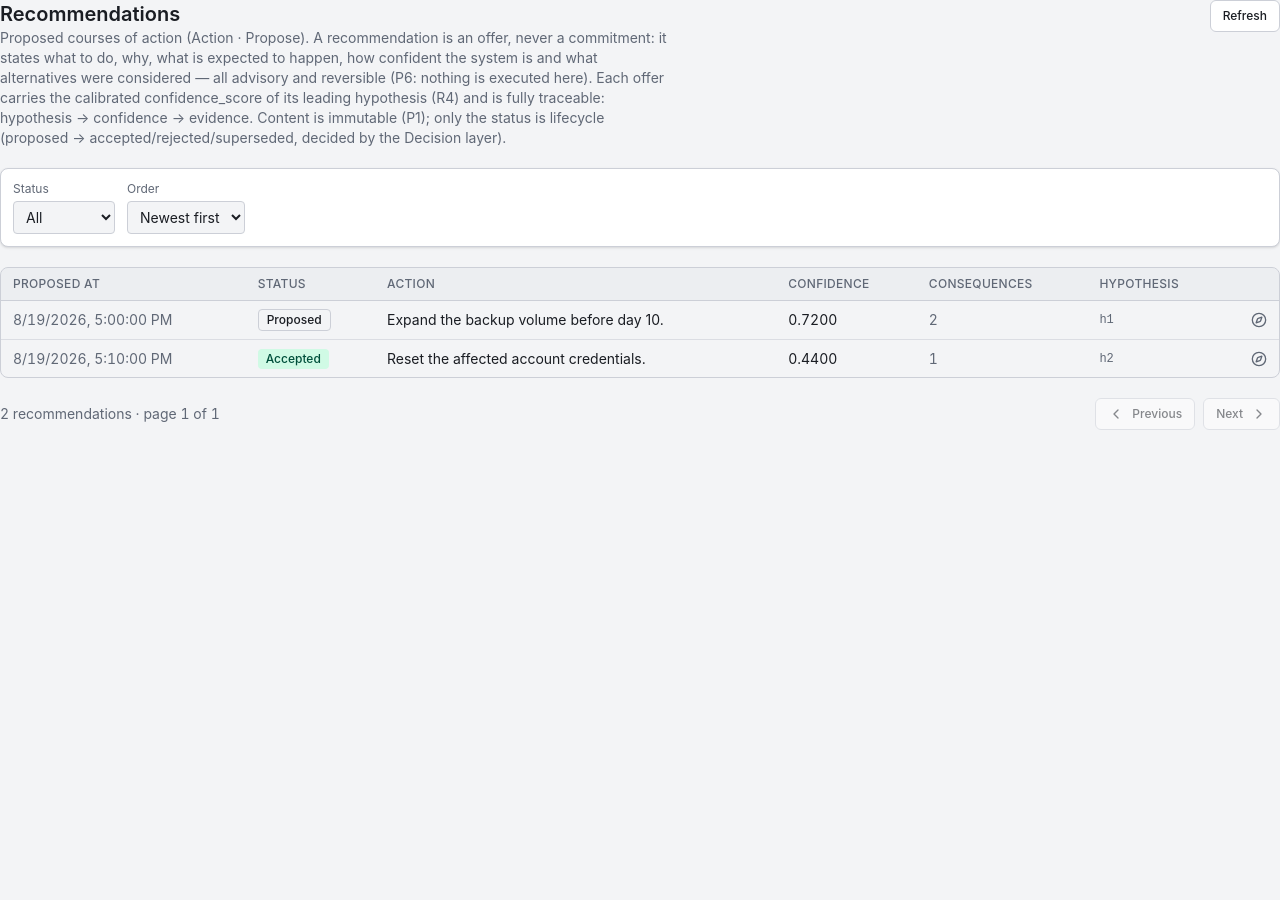
Scenario: RecommendationsPage › opens the detail drawer with consequences, alternatives, confidence and hypothesis
Click the text "Expand the backup volume before day 10.": (576, 320) x1=375 y1=300 x2=776 y2=340
(page scrolled)
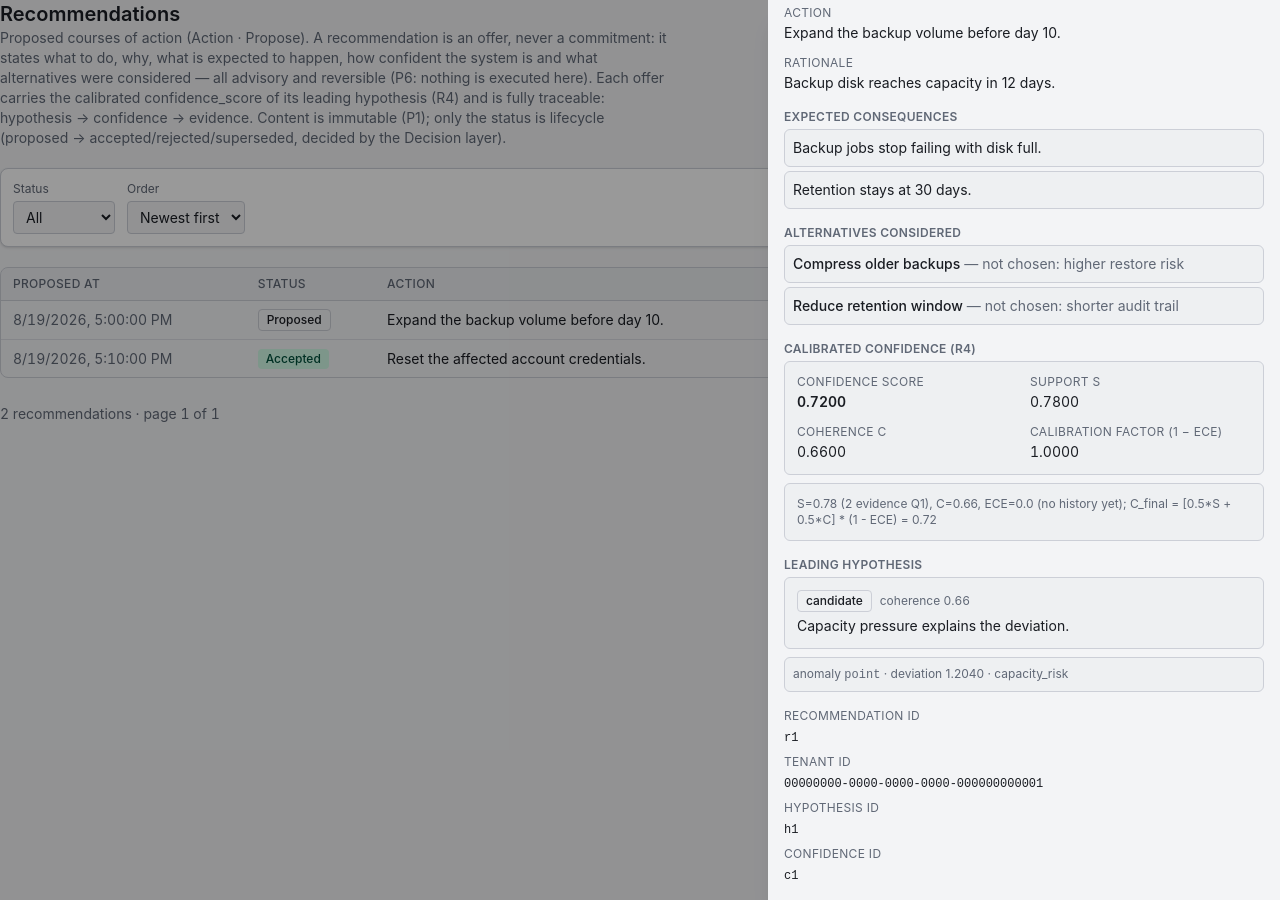
expect the heading "Expected consequences" is shown: met, box x1=784 y1=109 x2=958 y2=124
expect the list item "Backup jobs stop failing with disk full." is shown: met, box x1=784 y1=129 x2=1264 y2=167
expect the heading "Alternatives considered" is shown: met, box x1=784 y1=225 x2=961 y2=240
